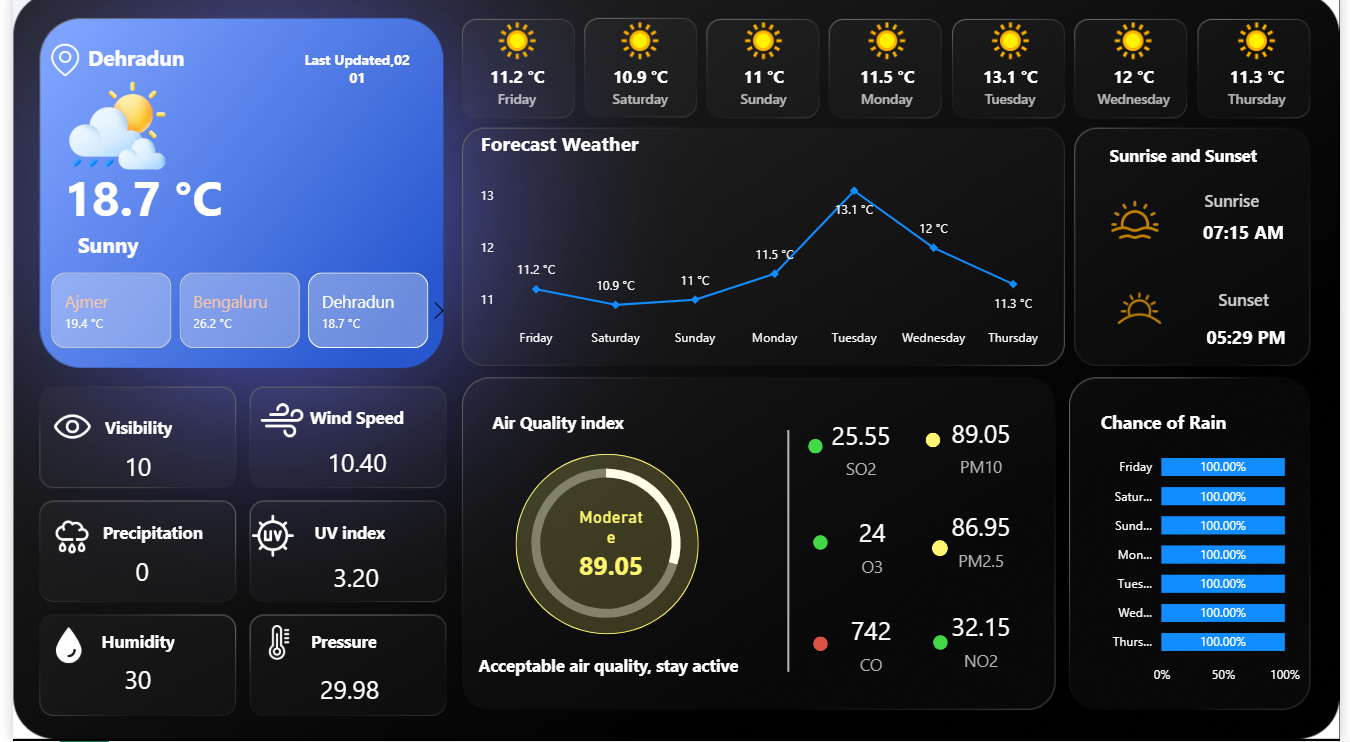

This screenshot's page, from the dashboard's own definition file:
{"tool":"powerbi","page":{"name":"Page 1","canvas":[1280,720],"ordinal":0},"visuals":[{"type":"donutChart","fields":{"Y":["Sum(Current.current.air_quality.pm10)","_Measures.Left_Value_PM10"]},"box":[442.9,433.7,259.5,190],"z":0},{"type":"shape","box":[484.9,442.9,176.9,174.3],"z":1000},{"type":"advancedSlicerVisual","fields":{"Values":["Locations.location.name"]},"box":[12.3,263.5,414.4,83.7],"z":2000},{"type":"shape","box":[49.7,130.3,243.2,127.6],"z":3000},{"type":"shape","box":[62.1,222.5,98.2,37.3],"z":4000},{"type":"shape","box":[72.1,34.1,129.7,52.4],"z":5000},{"type":"shape","box":[272.9,0,119,140.8],"z":6000},{"type":"image","box":[0,47.2,100.9,31.4],"z":7000},{"type":"image","box":[32.8,395.7,49.8,41.9],"z":8000},{"type":"image","box":[232.4,388.2,53.7,44.3],"z":9000},{"type":"image","box":[220.3,608.6,72.5,33.6],"z":10000},{"type":"image","box":[38,499.3,39.3,47.2],"z":11000},{"type":"image","box":[30.1,609.3,47.2,36.7],"z":12000},{"type":"image","box":[229.7,499.7,43,44.3],"z":13000},{"type":"shape","box":[272.7,380.2,118.2,55.1],"z":14000},{"type":"shape","box":[66.8,600.2,108.8,47.2],"z":15000},{"type":"shape","box":[272.6,495.3,104.8,44.6],"z":16000},{"type":"shape","box":[85.2,488.8,98.3,60.3],"z":17000},{"type":"shape","box":[249,592.3,141.5,61.6],"z":18000},{"type":"shape","box":[61.6,381.3,119.2,70.8],"z":19000},{"type":"card","fields":{"Values":["Sum(Current.current.humidity)"]},"box":[82.6,640.8,77.3,43.2],"z":20000},{"type":"card","fields":{"Values":["Sum(Current.current.precip_in)"]},"box":[85.2,537.3,78.6,41.9],"z":21000},{"type":"card","fields":{"Values":["Sum(Current.current.uv)"]},"box":[292.2,542.5,78.6,41.9],"z":22000},{"type":"card","fields":{"Values":["Sum(Current.current.pressure_in)"]},"box":[285.9,650.1,78.3,42.3],"z":23000},{"type":"card","fields":{"Values":["Sum(Current.current.wind_kph)"]},"box":[293.3,431.3,78.3,42.3],"z":24000},{"type":"card","fields":{"Values":["Sum(Current.current.vis_km)"]},"box":[82.6,435.1,77.3,41.9],"z":25000},{"type":"lineChart","title":" Forecast Weather","fields":{"Y":["Sum(Forecast.forecast.forecastday.day.avgtemp_c)"],"Category":["Forecast.Day_Name"]},"box":[446,130.3,554.8,219],"z":26000},{"type":"advancedSlicerVisual","fields":{"Values":["Forecast.Day_Name"],"Label":["_Measures.For_temp_c"]},"box":[425.9,19.7,836,107.5],"z":27000},{"type":"shape","box":[1049.2,123.6,159.9,63.1],"z":28000},{"type":"shape","box":[1148.6,197.5,81.9,60.5],"z":29000},{"type":"shape","box":[1150,299.6,80.6,60.5],"z":30000},{"type":"shape","box":[1150,167.9,81.9,60.5],"z":31000},{"type":"shape","box":[1147.3,263.3,80.6,60.5],"z":32000},{"type":"image","box":[1049.2,194.8,65.8,45.7],"z":33000},{"type":"image","box":[1045.2,274.1,84.6,56.4],"z":34000},{"type":"hundredPercentStackedBarChart","title":"Chance of Rain","fields":{"Y":["Sum(Forecast.forecast.forecastday.day.daily_chance_of_rain)","_Measures.Left_Value_Rain2"],"Category":["Forecast.Day_Name"]},"box":[1044.8,400.5,202.7,273.9],"z":35000},{"type":"shape","box":[446.4,380,159.3,62.7],"z":36000},{"type":"card","fields":{"Values":["Sum(Current.current.air_quality.pm10)"]},"box":[895,395.7,78.6,78.6],"z":37000},{"type":"card","fields":{"Values":["Sum(Current.current.air_quality.pm2_5)"]},"box":[895,486.2,78.6,78.6],"z":38000},{"type":"card","fields":{"Values":["Sum(Current.current.air_quality.co)"]},"box":[788.9,585.8,78.6,78.6],"z":39000},{"type":"card","fields":{"Values":["Sum(Current.current.air_quality.no2)"]},"box":[895,583.1,78.6,78.6],"z":40000},{"type":"card","fields":{"Values":["Sum(Current.current.air_quality.so2)"]},"box":[779.7,403.6,78.6,65.5],"z":41000},{"type":"card","fields":{"Values":["Sum(Current.current.air_quality.o3)"]},"box":[790.2,498,78.6,65.5],"z":42000},{"type":"shape","box":[767.9,428.5,14.4,14.4],"z":43000},{"type":"shape","box":[771.8,618.5,14.4,14.4],"z":44000},{"type":"shape","box":[888.5,617.2,14.4,14.4],"z":45000},{"type":"shape","box":[887.1,525.5,15.7,15.7],"z":46000},{"type":"shape","box":[880.6,422,14.4,14.4],"z":47000},{"type":"shape","box":[771.8,521.5,14.4,14.4],"z":48000},{"type":"shape","box":[668.3,419.3,159.9,233.3],"z":49000},{"type":"card","fields":{"Values":["Sum(Current.current.air_quality.pm10)"]},"box":[538.6,494,78.6,78.6],"z":50000},{"type":"shape","box":[425.9,617.2,297.5,59],"z":51000},{"type":"image","box":[49.8,79.9,102.2,93],"z":52000}]}

Visuals, with their boxes in screenshot pixels (x1, y1, x2, y2), scaled from the page's 1280x720 canvas onto the 1350x742 screenshot:
donutChart - Sum(Current.current.air_quality.pm10) x _Measures.Left_Value_PM10: [467, 447, 741, 643]
shape: [511, 456, 698, 636]
advancedSlicerVisual - Locations.location.name: [13, 272, 450, 358]
shape: [52, 134, 309, 266]
shape: [65, 229, 169, 268]
shape: [76, 35, 213, 89]
shape: [288, 0, 413, 145]
image: [0, 49, 106, 81]
image: [35, 408, 87, 451]
image: [245, 400, 302, 446]
image: [232, 627, 309, 662]
image: [40, 515, 82, 563]
image: [32, 628, 82, 666]
image: [242, 515, 288, 561]
shape: [288, 392, 412, 449]
shape: [70, 619, 185, 667]
shape: [288, 510, 398, 556]
shape: [90, 504, 194, 566]
shape: [263, 610, 412, 674]
shape: [65, 393, 191, 466]
card - Sum(Current.current.humidity): [87, 660, 169, 705]
card - Sum(Current.current.precip_in): [90, 554, 173, 597]
card - Sum(Current.current.uv): [308, 559, 391, 602]
card - Sum(Current.current.pressure_in): [302, 670, 384, 714]
card - Sum(Current.current.wind_kph): [309, 444, 392, 488]
card - Sum(Current.current.vis_km): [87, 448, 169, 492]
" Forecast Weather" lineChart: [470, 134, 1056, 360]
advancedSlicerVisual - Forecast.Day_Name x _Measures.For_temp_c: [449, 20, 1331, 131]
shape: [1107, 127, 1275, 192]
shape: [1211, 204, 1298, 266]
shape: [1213, 309, 1298, 371]
shape: [1213, 173, 1299, 235]
shape: [1210, 271, 1295, 334]
image: [1107, 201, 1176, 248]
image: [1102, 282, 1192, 341]
"Chance of Rain" hundredPercentStackedBarChart: [1102, 413, 1316, 695]
shape: [471, 392, 639, 456]
card - Sum(Current.current.air_quality.pm10): [944, 408, 1027, 489]
card - Sum(Current.current.air_quality.pm2_5): [944, 501, 1027, 582]
card - Sum(Current.current.air_quality.co): [832, 604, 915, 685]
card - Sum(Current.current.air_quality.no2): [944, 601, 1027, 682]
card - Sum(Current.current.air_quality.so2): [822, 416, 905, 483]
card - Sum(Current.current.air_quality.o3): [833, 513, 916, 581]
shape: [810, 442, 825, 456]
shape: [814, 637, 829, 652]
shape: [937, 636, 952, 651]
shape: [936, 542, 952, 558]
shape: [929, 435, 944, 450]
shape: [814, 537, 829, 552]
shape: [705, 432, 873, 673]
card - Sum(Current.current.air_quality.pm10): [568, 509, 651, 590]
shape: [449, 636, 763, 697]
image: [53, 82, 160, 178]
